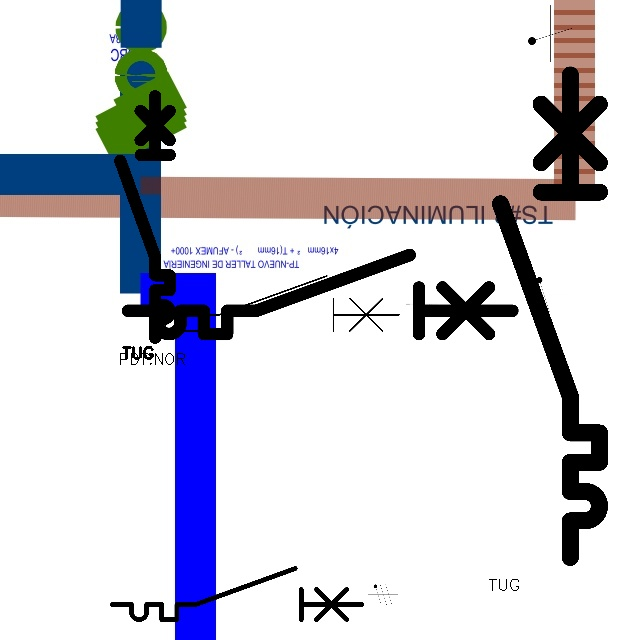interruptor_termomagnetico: (488, 62, 612, 570), (118, 245, 522, 344), (122, 269, 406, 338), (106, 562, 368, 626), (114, 90, 176, 344)
